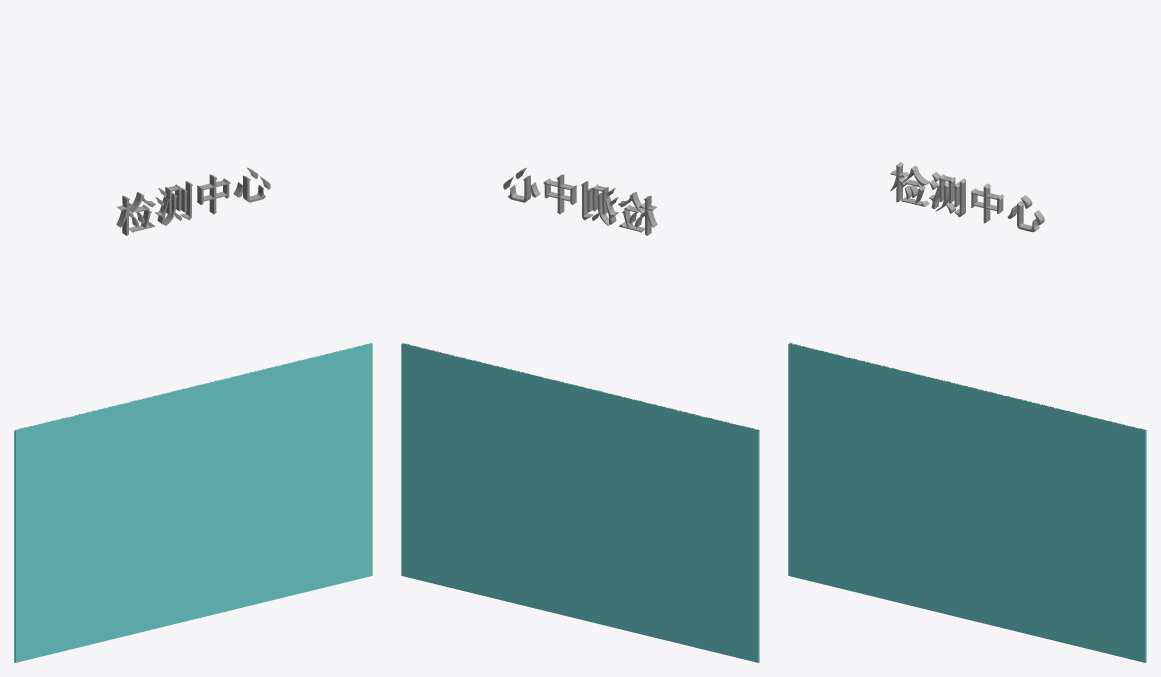
Rendered from qiang_jiance.fbx.
3 views of the same model, side by side, from view 1: azimuth 30°, elevation 25°; view 2: azimuth 150°, elevation 25°; view 3: azimuth 330°, elevation 25° (orthographic).
Parts seen in each view (by area): view 1: pCube7; view 2: pCube7; view 3: pCube7.
Boxes of the visible parts, x1=… form: pCube7: x1=14, y1=167, x2=372, y2=662; pCube7: x1=401, y1=167, x2=759, y2=662; pCube7: x1=788, y1=162, x2=1146, y2=662.
Size of the model in its own units: 120 by 180 by 2.5.
